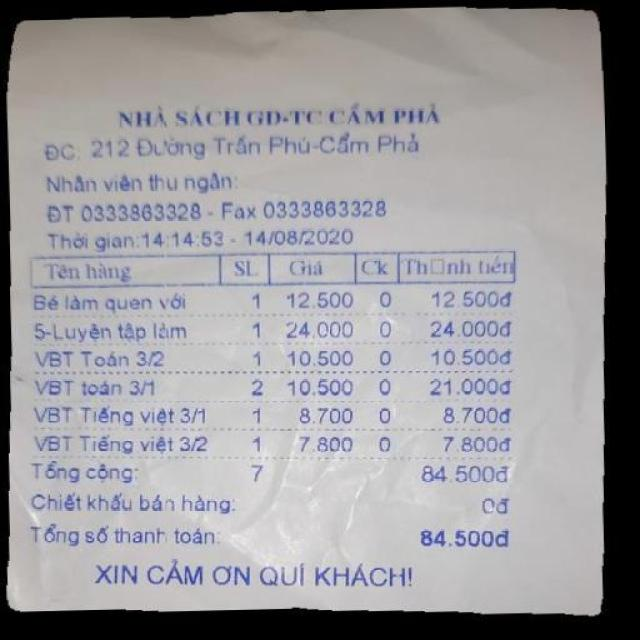Date: (242, 228, 357, 248)
Store_Name: (109, 104, 445, 128)
amount_number: (415, 523, 491, 552)
label_total: (32, 521, 220, 555)
